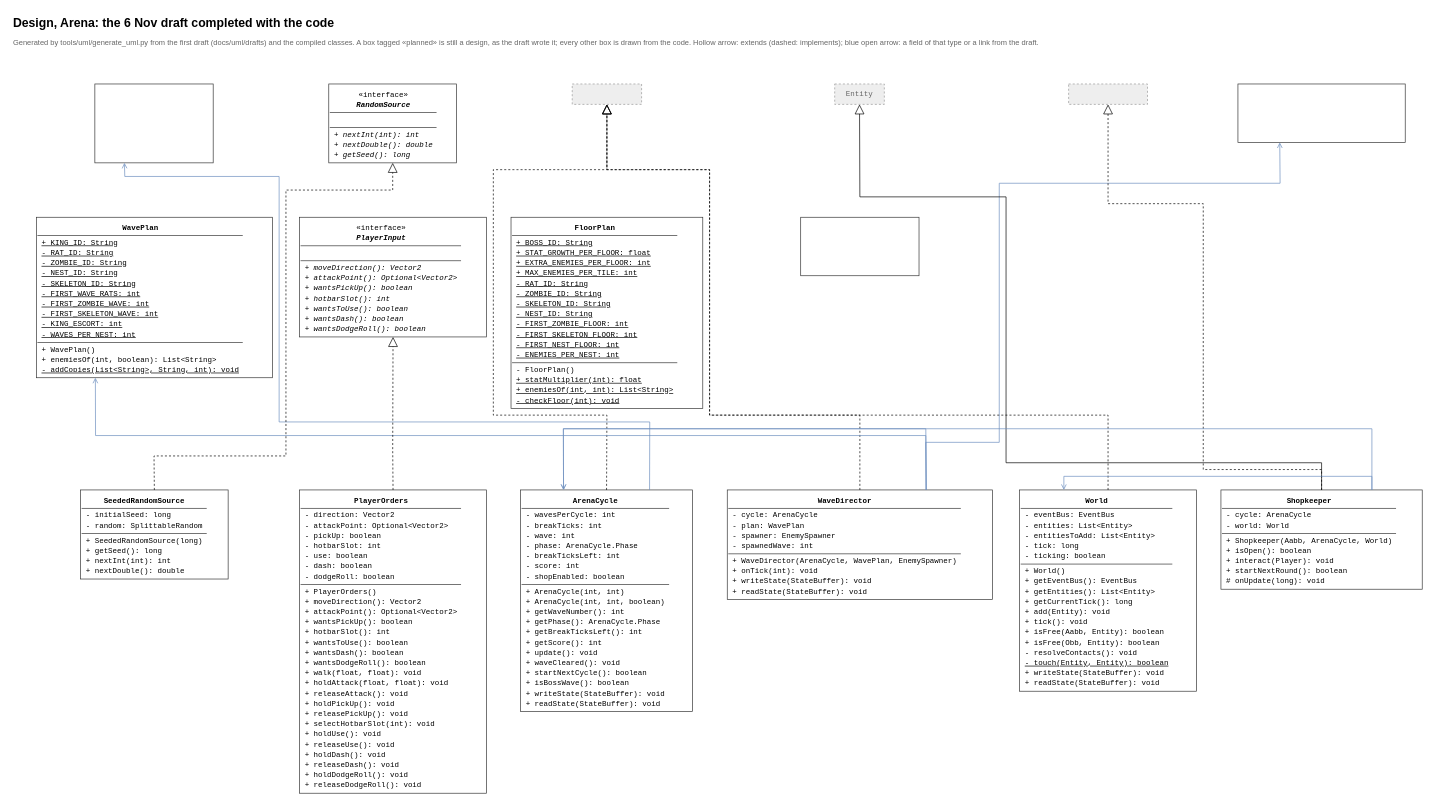
Some shapes in this 1434 by 805 pixel diagram are drawn without their labels. Each missing label, with the box of its shape:
FloorSequence + MAP_COUNT: int - FloorSequence() + mapOf(int): String: (800, 217, 919, 276)
Interactable: (1068, 83, 1148, 104)
Rewindable: (572, 83, 642, 104)
«enum» ArenaCycle.Phase WAVE BREAK SHOP: (94, 83, 213, 163)
«interface» EnemySpawner + spawn(String, boolean): void: (1237, 83, 1405, 142)
